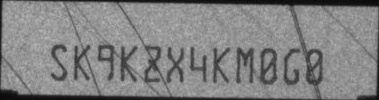0: (259, 46, 278, 85), (305, 46, 324, 85)
4: (189, 44, 207, 82)
9: (96, 43, 114, 81)
G: (283, 45, 301, 84)
K: (119, 44, 138, 81), (72, 42, 90, 81), (212, 45, 230, 84)
M: (235, 44, 255, 84)
S: (50, 43, 70, 81)
X: (167, 45, 185, 84)
Z: (144, 45, 162, 83)
